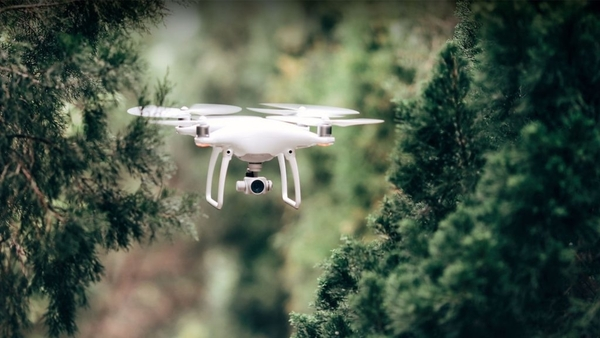drone: (126, 101, 387, 210)
